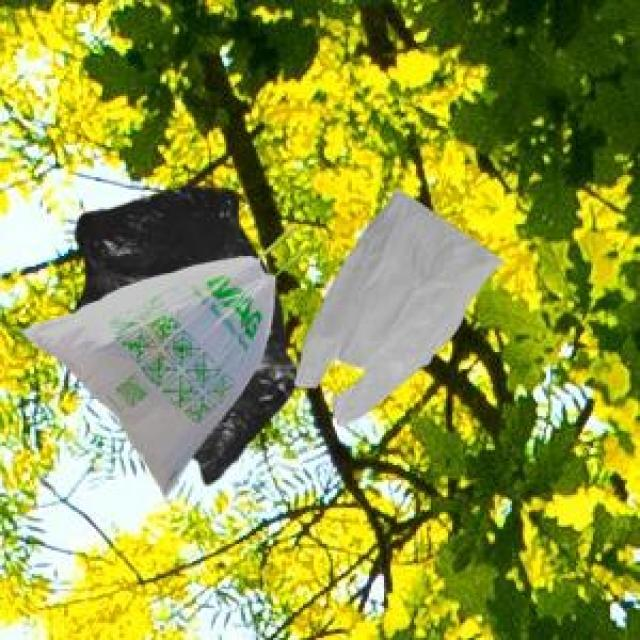Plastic_Bag: (20, 223, 294, 494), (72, 182, 294, 481), (291, 186, 500, 424)
